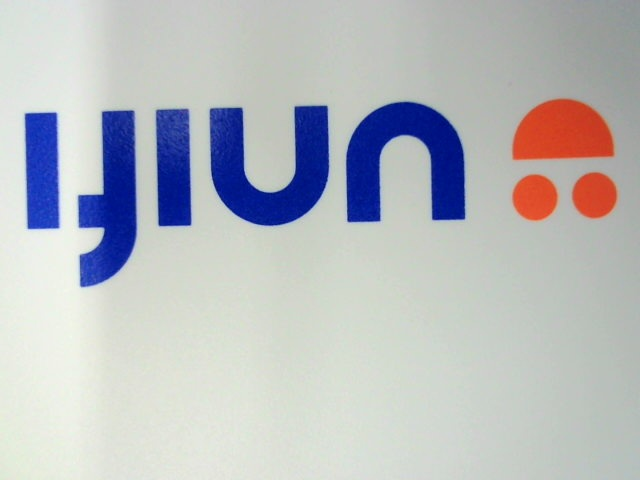BN_unifi: (14, 88, 621, 284)
